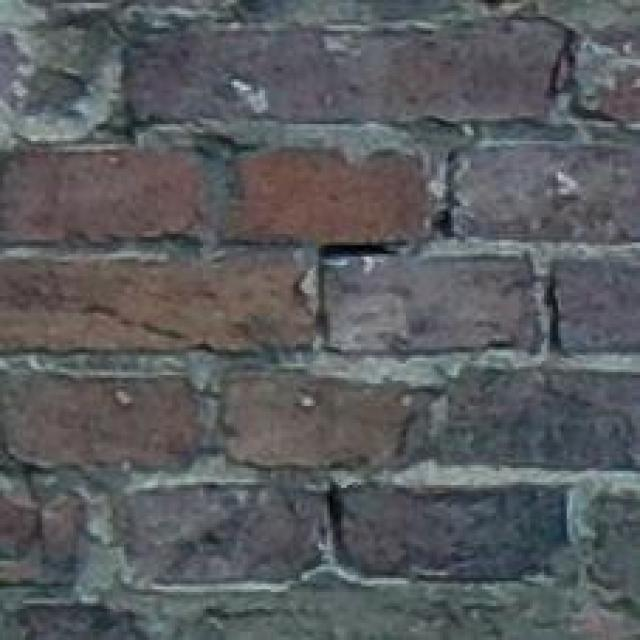Crack: (254, 0, 640, 377)
